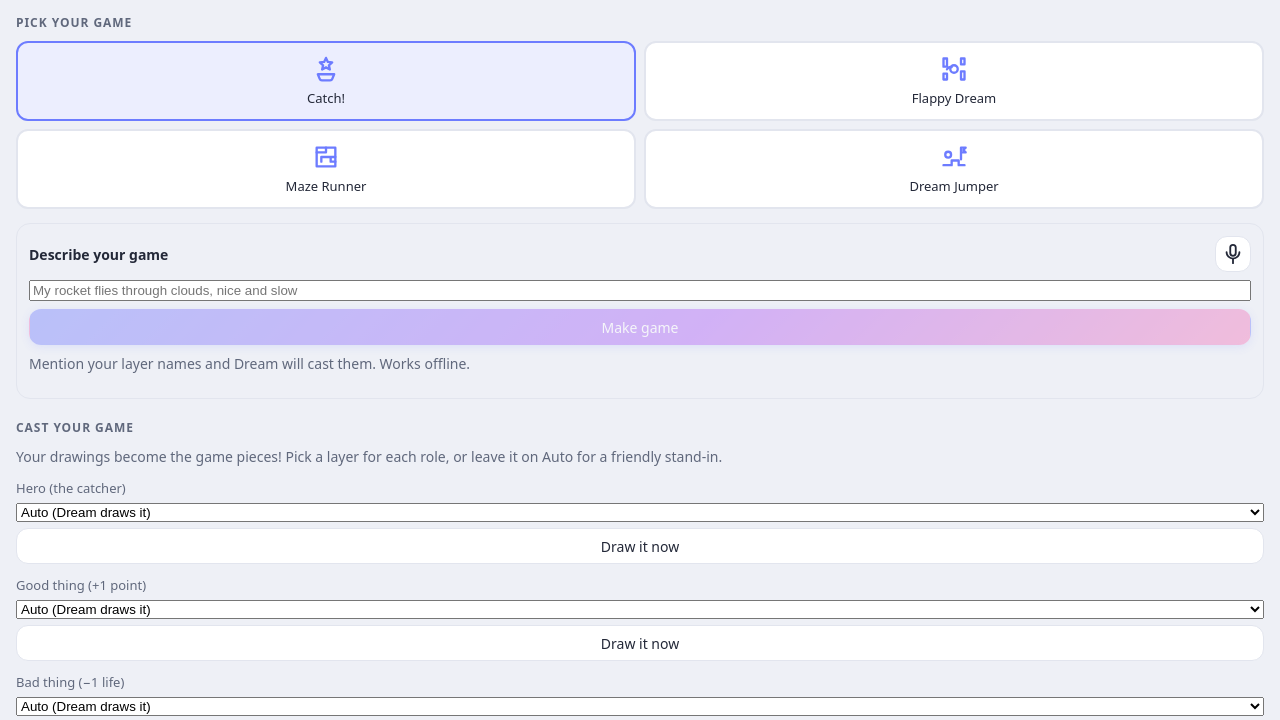
Scenario: PlayPanel game maker › applies a conversational plan to template, settings and cast
Type "My Rocket flies through Clouds, nice and slow" into the field labelled "Describe your game". click: [640, 290]
box: x1=29 y1=280 x2=1251 y2=301
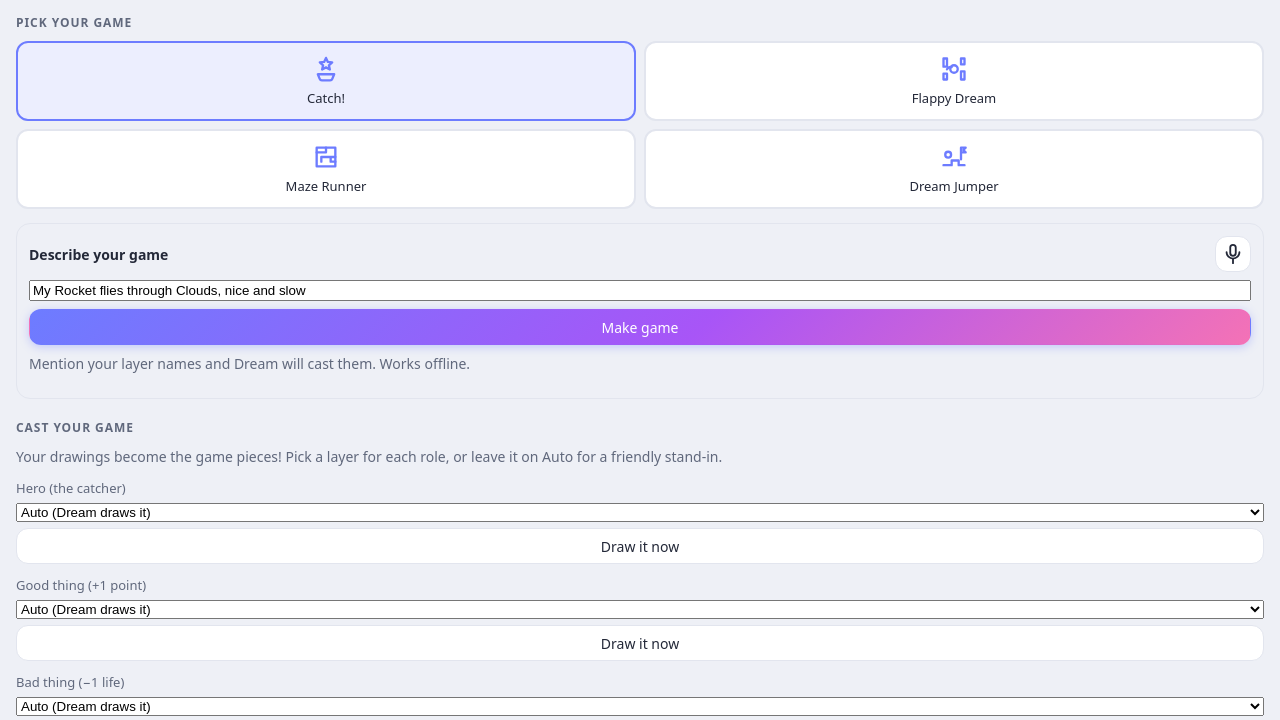
Click the button "Make game". click: [640, 327]
box: x1=29 y1=309 x2=1251 y2=345
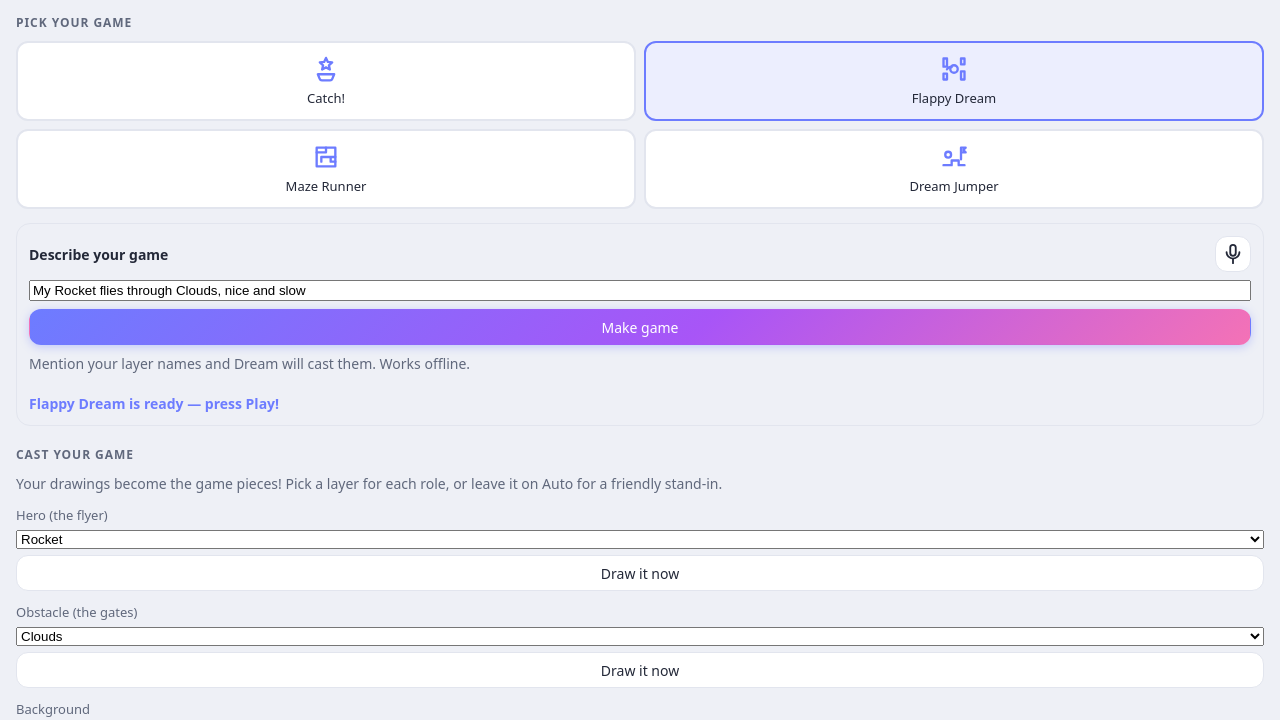
Expected: the message reads "Flappy Dream is ready — press Play!", x1=29 y1=394 x2=279 y2=413
